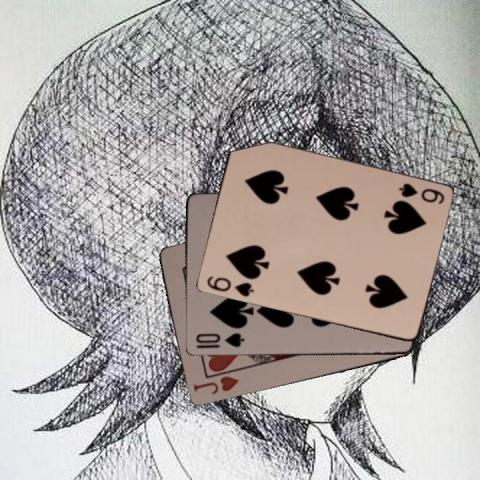10s: (192, 330, 244, 349)
6s: (204, 272, 256, 299), (396, 180, 446, 206)
Jh: (190, 373, 240, 397)
